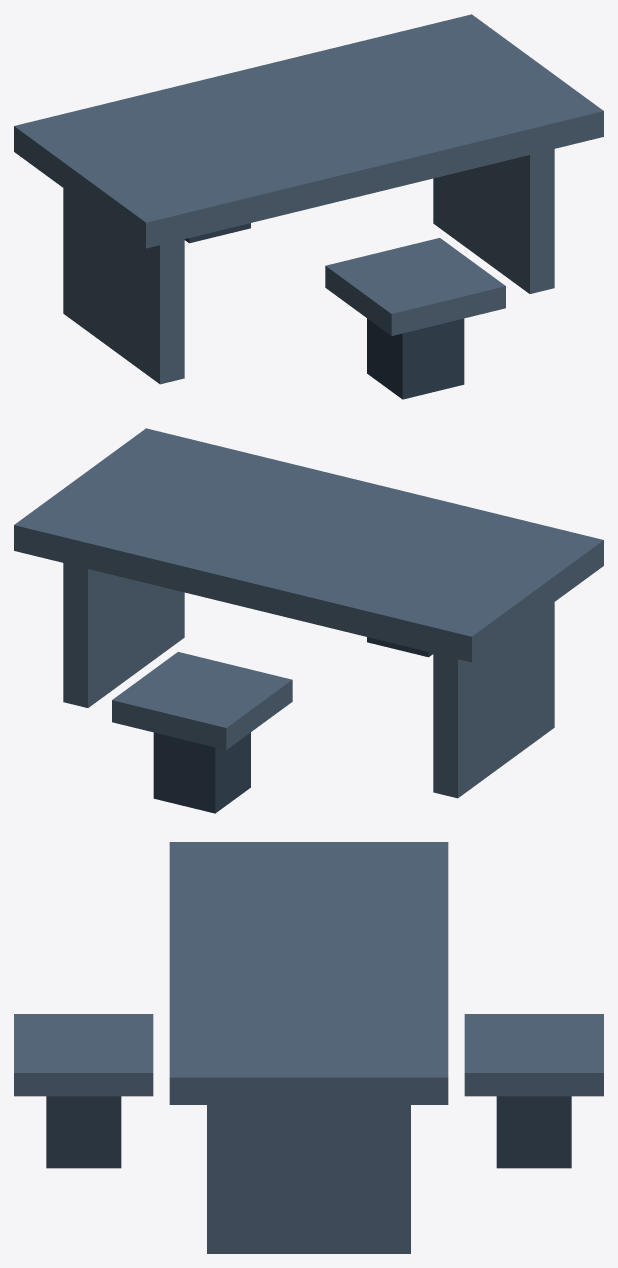
File: mesa_com_banquetas.glb
3 renders of one model, top to bottom at view 1: azimuth 30°, elevation 25°; view 2: azimuth 150°, elevation 25°; view 3: azimuth 270°, elevation 25°, orthographic. The views are drawn at different scales.
Visible parts, largest first — view 1: Mesa, _MeshInstance3D_559, _MeshInstance3D_562, Assento, BaseBanco; view 2: Mesa, _MeshInstance3D_559, _MeshInstance3D_562, _MeshInstance3D_569, _MeshInstance3D_572; view 3: Mesa, _MeshInstance3D_562, Assento, _MeshInstance3D_569, BaseBanco, _MeshInstance3D_572.
Boxes of the visible parts, x1,y1,x2,y2 form: Mesa: [14, 14, 603, 248]; _MeshInstance3D_559: [63, 188, 184, 384]; _MeshInstance3D_562: [433, 149, 554, 293]; Assento: [325, 238, 505, 335]; BaseBanco: [367, 318, 464, 399]; Mesa: [14, 428, 603, 662]; _MeshInstance3D_559: [433, 602, 554, 798]; _MeshInstance3D_562: [63, 563, 184, 707]; _MeshInstance3D_569: [112, 652, 292, 749]; _MeshInstance3D_572: [153, 732, 250, 813]; Mesa: [169, 842, 448, 1104]; _MeshInstance3D_562: [207, 1105, 410, 1253]; Assento: [14, 1014, 153, 1096]; _MeshInstance3D_569: [464, 1014, 603, 1096]; BaseBanco: [46, 1096, 121, 1168]; _MeshInstance3D_572: [496, 1096, 571, 1168].
Bounding box in the file's own units: 2.6 × 0.99 × 2.75.
